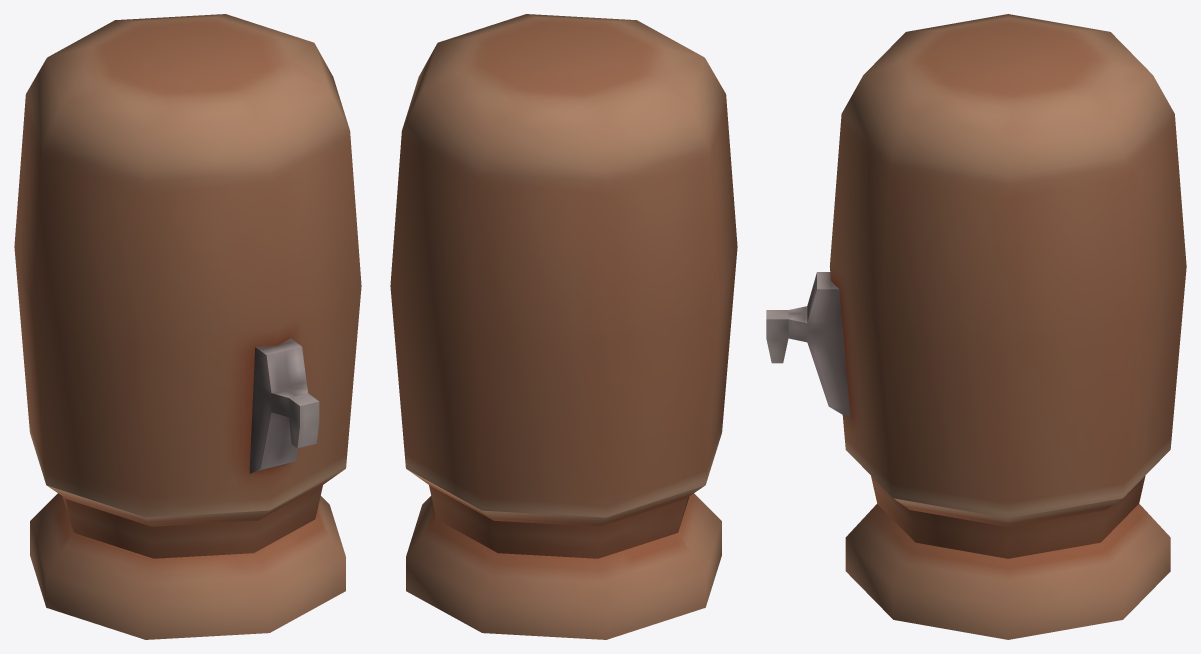
Rendered from RuralProps_WaterFilter.fbx.
3 renders of one model, left to right at view 1: azimuth 30°, elevation 25°; view 2: azimuth 150°, elevation 25°; view 3: azimuth 270°, elevation 25°, orthographic.
Visible parts, largest first — view 1: pCylinder28; view 2: pCylinder28; view 3: pCylinder28.
Boxes of the visible parts, x1,y1,x2,y2 form: pCylinder28: (14, 14, 361, 639); pCylinder28: (390, 14, 737, 639); pCylinder28: (766, 14, 1186, 639).
Bounding box in the file's own units: 1.39 × 2.2 × 1.63.
2 materials, 2 textured.
